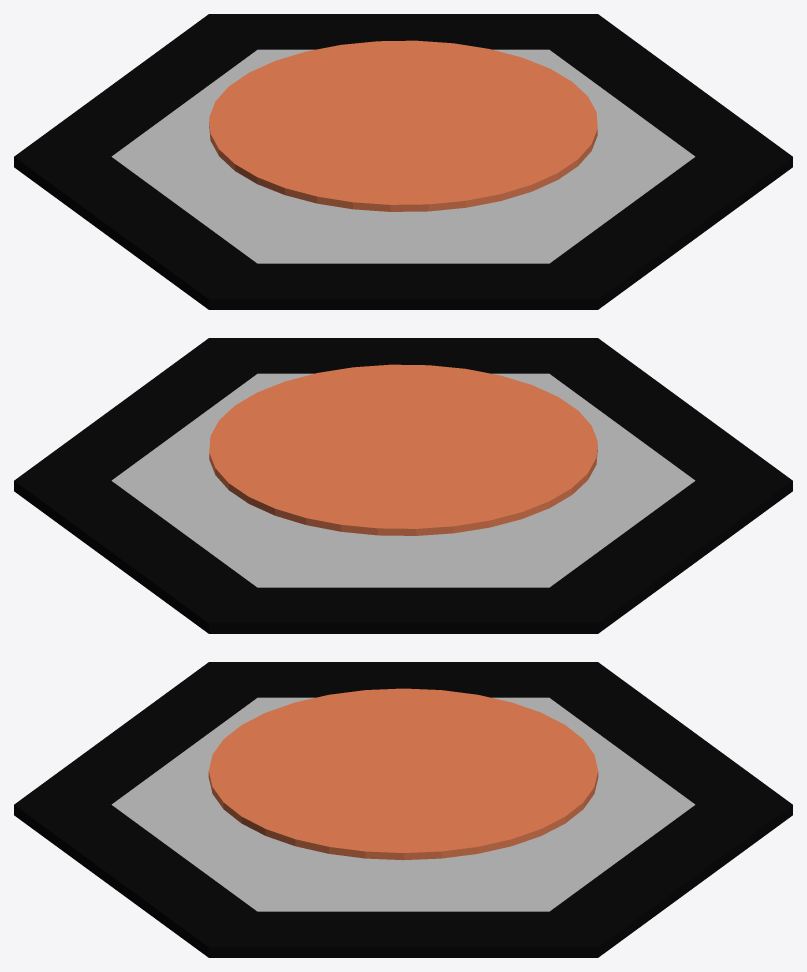
File: sphere_opt.fbx
3 views of the same model, one above another, from view 1: azimuth 30°, elevation 25°; view 2: azimuth 150°, elevation 25°; view 3: azimuth 270°, elevation 25° (orthographic).
Visible parts, largest first — view 1: Circle; view 2: Circle; view 3: Circle.
Part boxes in pixels (left/top/right/bottom): Circle: left=14, top=14, right=792, bottom=309; Circle: left=14, top=338, right=792, bottom=633; Circle: left=14, top=662, right=792, bottom=957.
Bounding box in the file's own units: 173 × 12.6 × 200.
